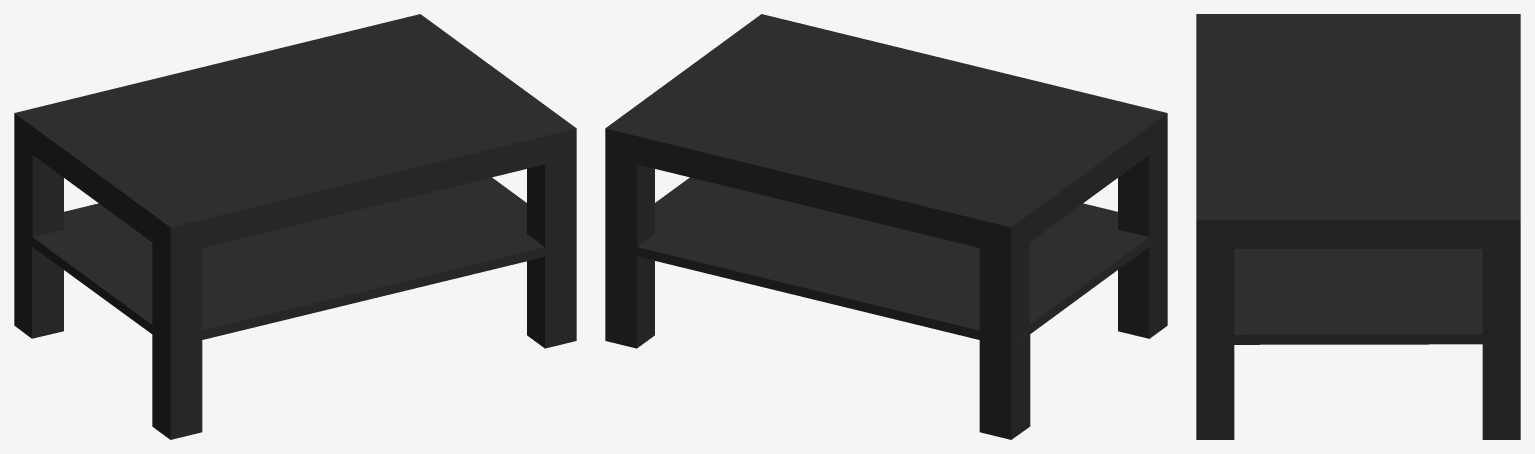
Rendered from staticmesh_coffeetable.gltf.
The picture shows the model from 3 angles, left to right: view 1: azimuth 30°, elevation 25°; view 2: azimuth 150°, elevation 25°; view 3: azimuth 270°, elevation 25°; orthographic projection. The views are drawn at different scales.
Visible parts, largest first — view 1: table-coffee; view 2: table-coffee; view 3: table-coffee.
Boxes of the visible parts, box(x1,y1,x2,y2) form: table-coffee: box(14, 14, 576, 439); table-coffee: box(605, 14, 1167, 439); table-coffee: box(1196, 14, 1520, 439).
Bounding box in the file's own units: 0.9013 × 0.45 × 0.6.
Materials: 1 (1 with a texture image).
